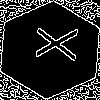X: (25, 25, 78, 62)
